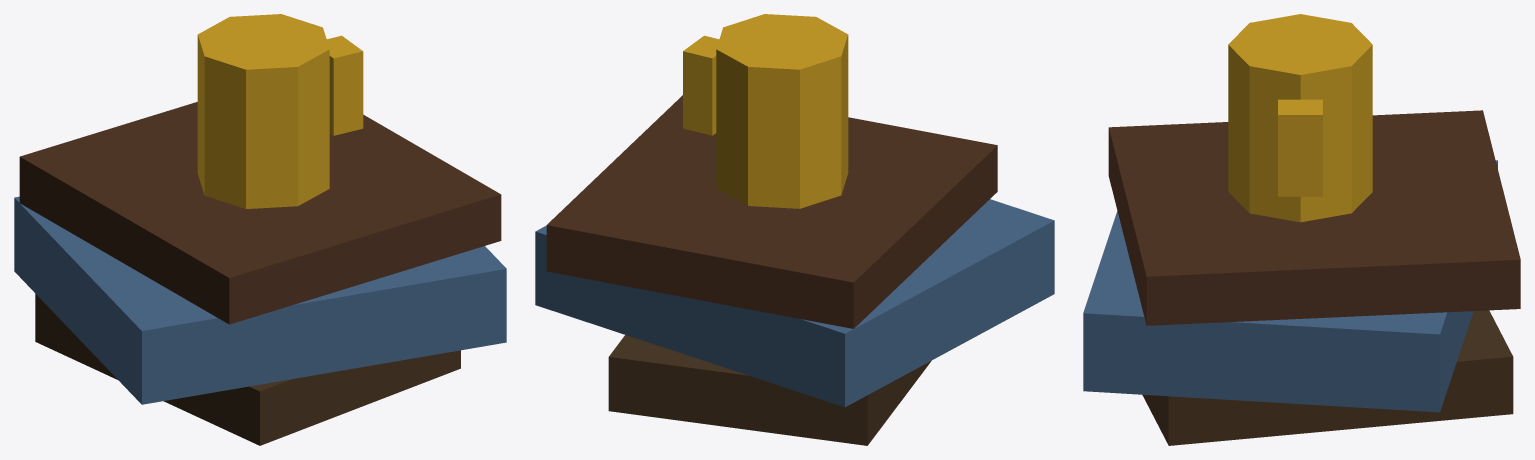
The model's file is book-stack-12.glb.
3 views of the same model, side by side, from view 1: azimuth 30°, elevation 25°; view 2: azimuth 150°, elevation 25°; view 3: azimuth 270°, elevation 25° (orthographic). The views are drawn at different scales.
Parts seen in each view (by area): view 1: book_stack_12; view 2: book_stack_12; view 3: book_stack_12.
Boxes of the visible parts, x1,y1,x2,y2 form: book_stack_12: (14,14,506,445); book_stack_12: (535,14,1054,445); book_stack_12: (1083,14,1520,445).
Size of the model in its own units: 0.2559 by 0.2028 by 0.2423.
